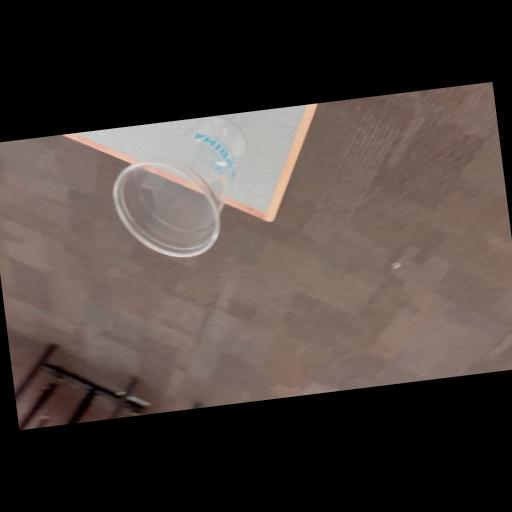lp_plastic_cup: (104, 113, 262, 268)
